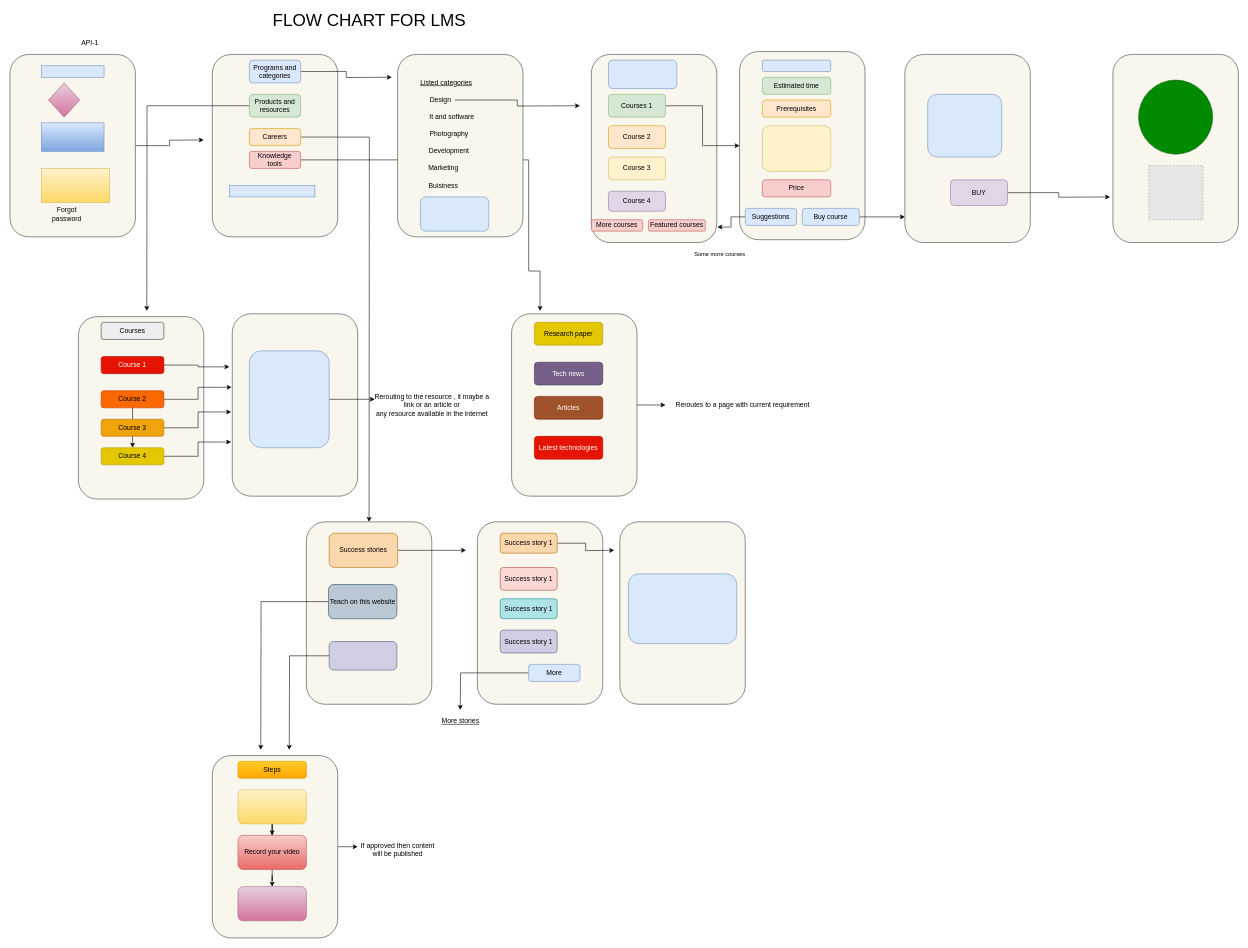
This 1248x948 diagram has some shape labels left out. Grey dashed boxes stand in for pictures. The shapes that lost their labels are listed below. From the top down, each one's centre as x and y in pixels, then its label:
At (x=72, y=71): "LOGIN SCREEN".
At (x=642, y=74): "Design courses".
At (x=796, y=66): "Syllabus".
At (x=64, y=99): "LOGO".
At (x=1175, y=117): "PAYMENT SUCCESSFUL".
At (x=72, y=136): "USERNAME".
At (x=964, y=125): "Card credentials".
At (x=796, y=148): "Description".
At (x=75, y=185): "PASSWORD".
At (x=272, y=191): "About LMS and overview".
At (x=454, y=213): "Explore more topics".
At (x=289, y=399): "All resources related to the respective course".
At (x=682, y=608): "Success story".
At (x=363, y=655): "Be a Teaching assistant".
At (x=271, y=806): "Plan your career".
At (x=271, y=903): "Launch your course".
